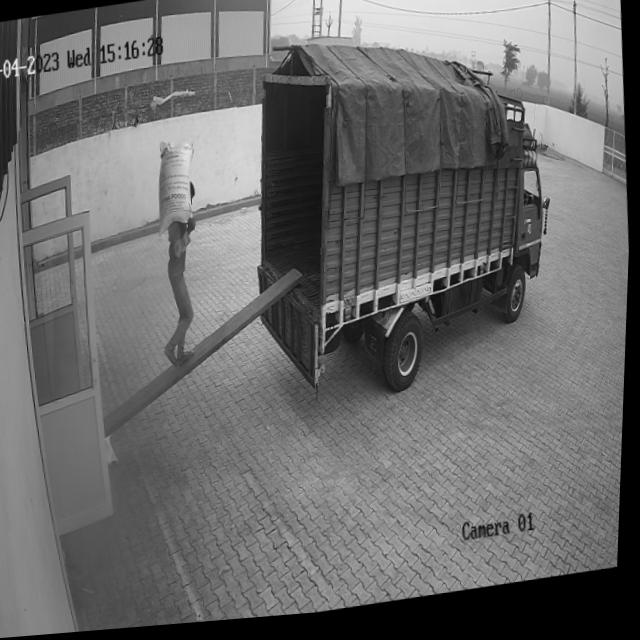sack: (154, 137, 200, 239)
